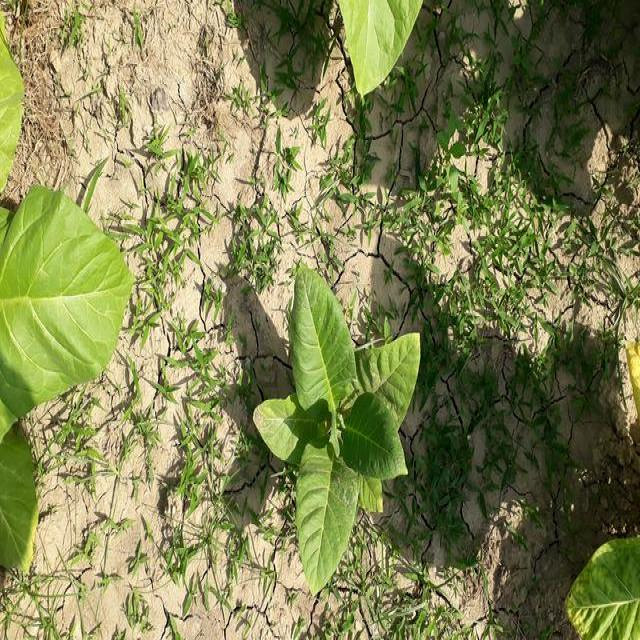crop: (252, 262, 423, 596)
